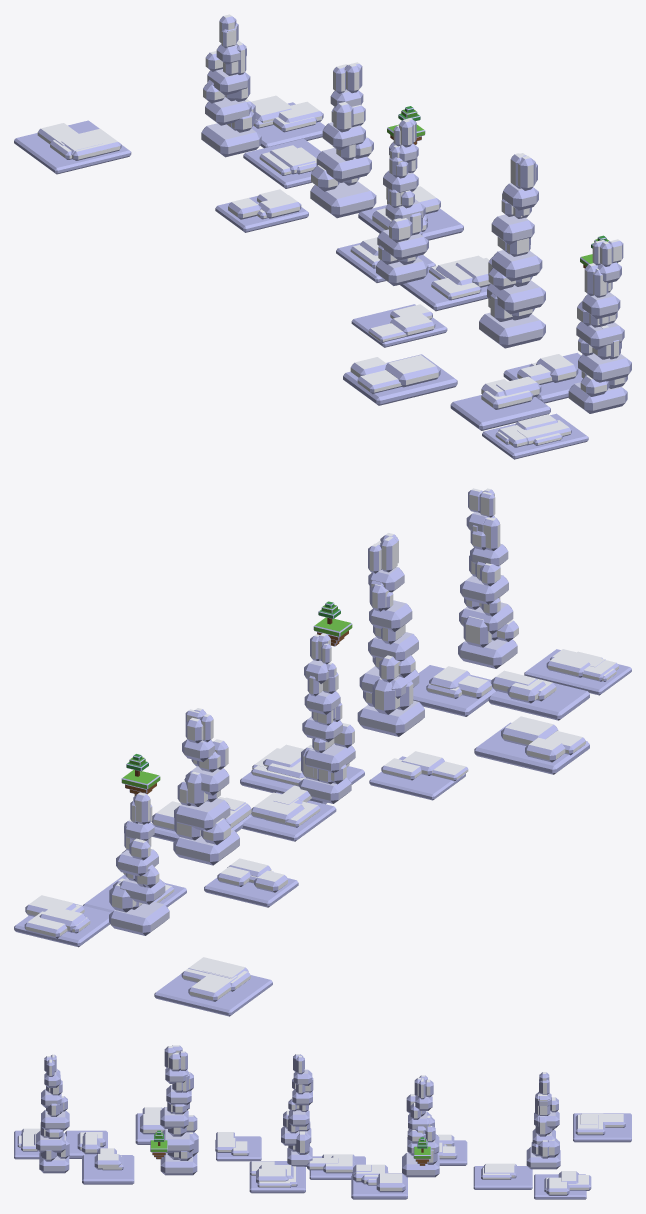
File: mar-de-nubes_LadoIzq.glb
3 renders of one model, top to bottom at view 1: azimuth 30°, elevation 25°; view 2: azimuth 150°, elevation 25°; view 3: azimuth 270°, elevation 25°, orthographic. The views are drawn at different scales.
Visible parts, largest first — view 1: Mapa_mar_de_nubes_LadoIzq; view 2: Mapa_mar_de_nubes_LadoIzq; view 3: Mapa_mar_de_nubes_LadoIzq.
Boxes of the visible parts, x1,y1,x2,y2 form: Mapa_mar_de_nubes_LadoIzq: (14, 14, 631, 459); Mapa_mar_de_nubes_LadoIzq: (14, 488, 631, 1016); Mapa_mar_de_nubes_LadoIzq: (14, 1045, 631, 1199).
Size of the model in its own units: 116 by 81.68 by 352.
Materials: 1 (1 with a texture image).
